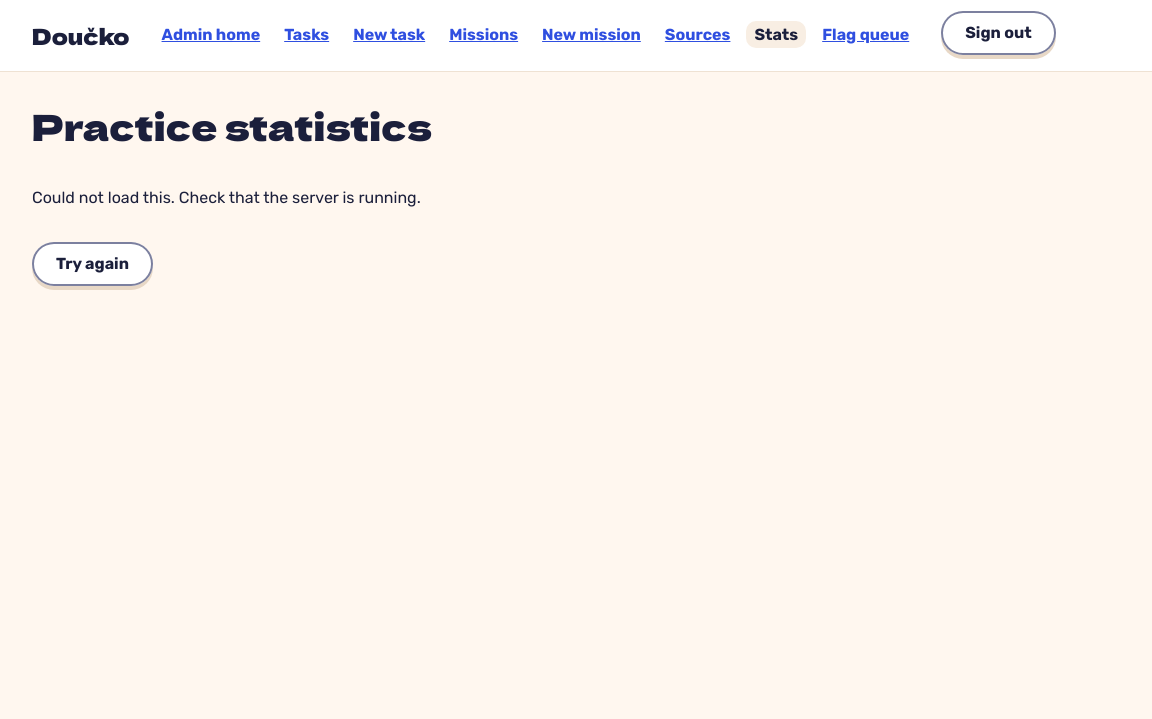
Test: stats page (FR-40) › says loading failed and retries
The width and height of the screenshot is (1152, 719).
Check: the text "Could not load this. Check that the server is running." is shown, box [32, 186, 480, 210]
Click the button "Try again". click: point(92, 264)
box: [32, 242, 153, 286]
(page scrolled)
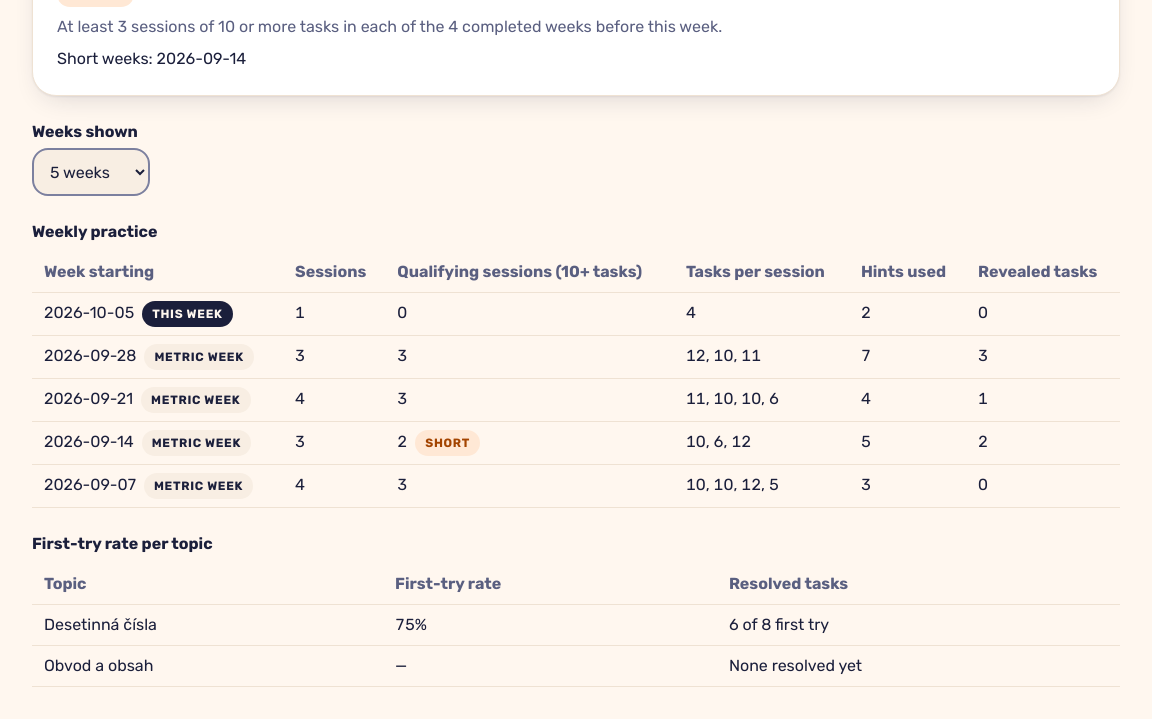
Check: the table "Weekly practice" is shown, box [32, 220, 1120, 508]
